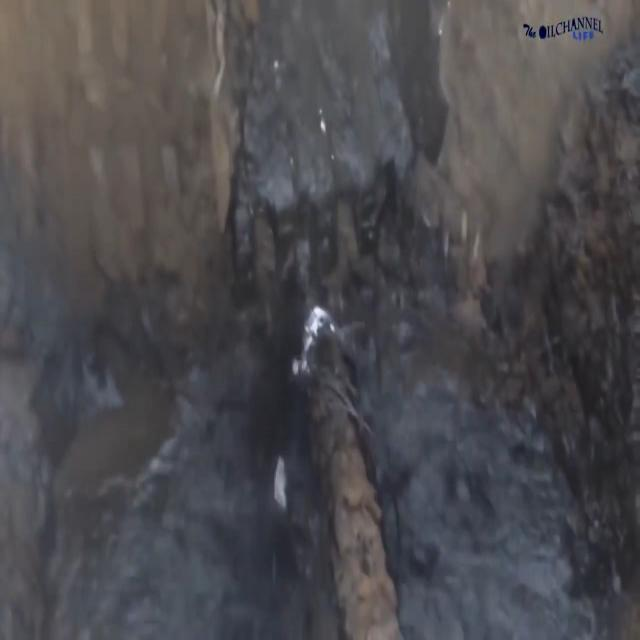spillage: (47, 370, 580, 640)
